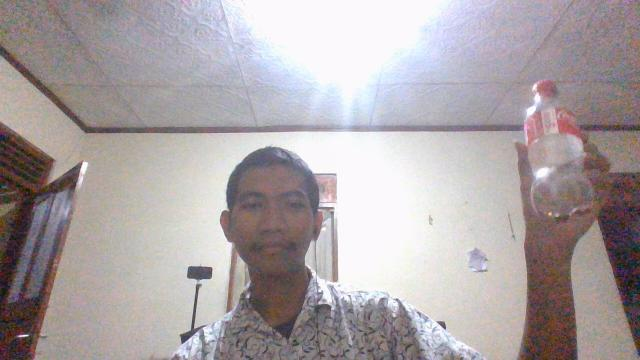coca-cola: (524, 78, 597, 229)
